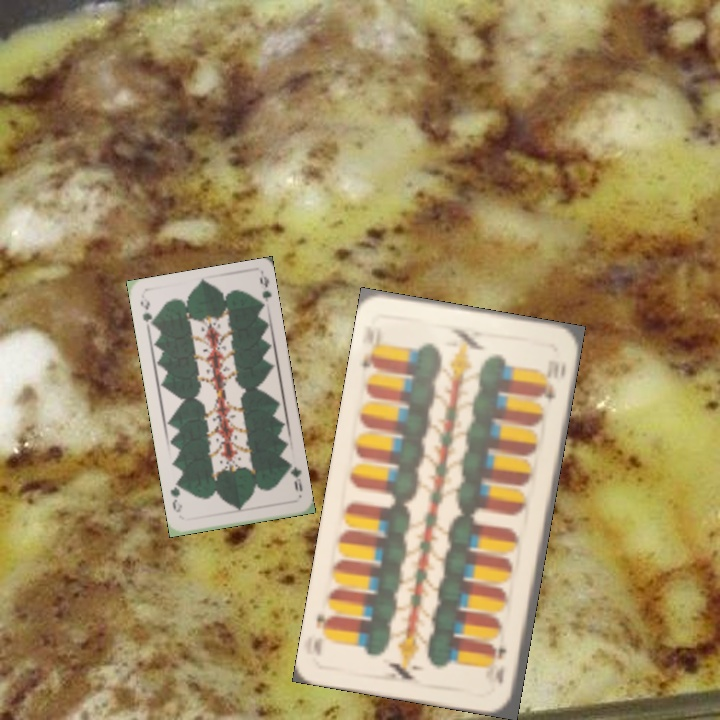E10: (357, 323, 384, 372), (491, 643, 510, 687)
G9: (136, 293, 157, 333), (284, 459, 305, 495)
